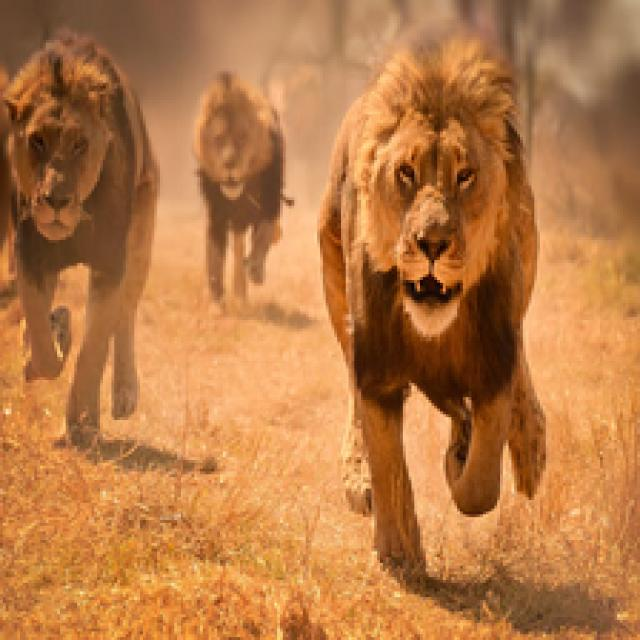lion: (332, 42, 578, 599), (0, 14, 170, 448), (190, 61, 301, 311)
